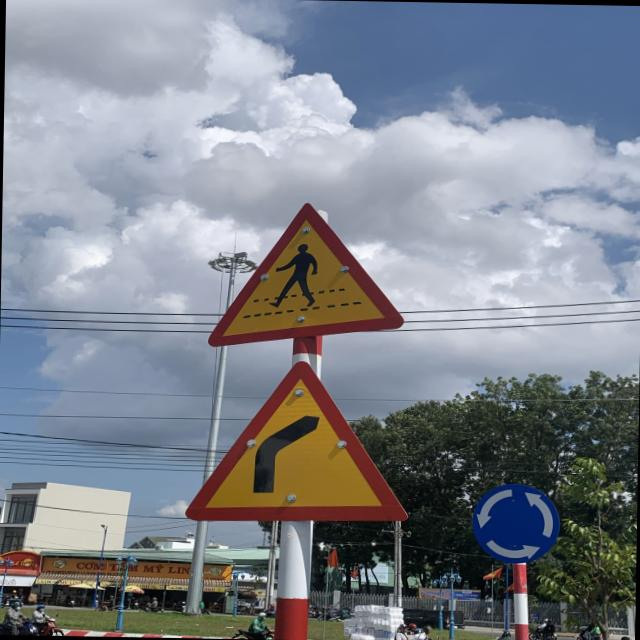Duong_Nguoi_Di_Bo_Cat_Ngang: (182, 358, 410, 525)
Duong_Nguoi_Di_Bo_Sang_Ngang: (205, 198, 409, 346)
Xe_Bus: (466, 481, 562, 568)
